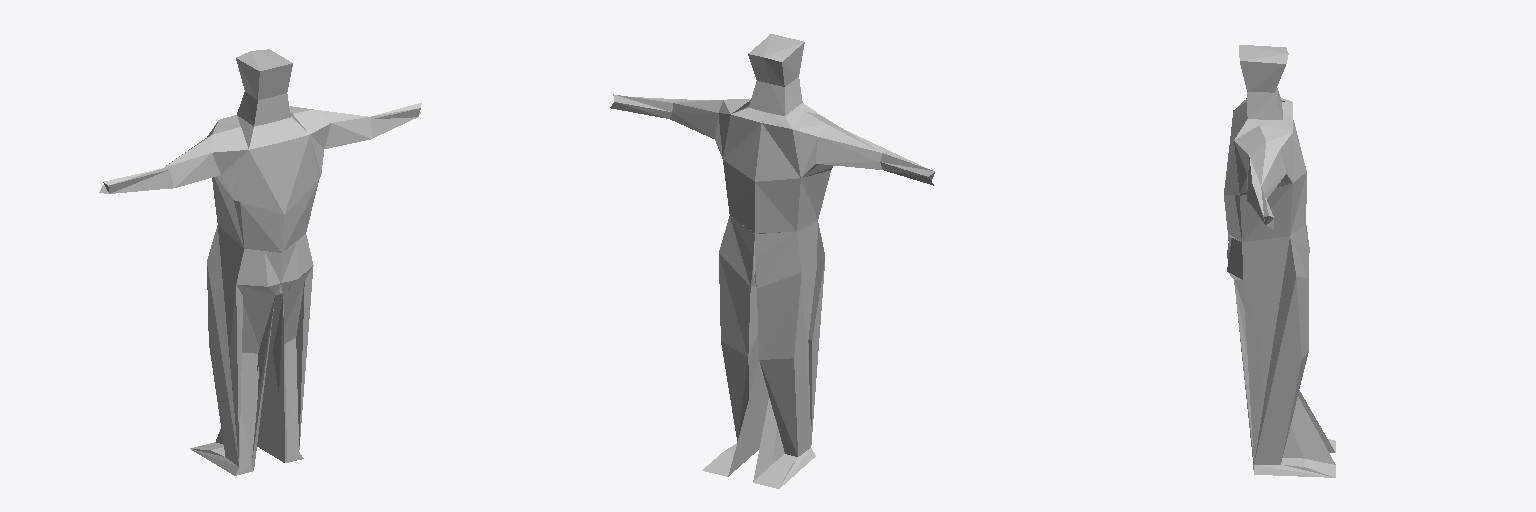
File: player.obj
3 renders of one model, left to right at view 1: azimuth 30°, elevation 25°; view 2: azimuth 150°, elevation 25°; view 3: azimuth 270°, elevation 25°, orthographic.
Parts seen in each view (by area): view 1: Cube.001; view 2: Cube.001; view 3: Cube.001.
Boxes of the visible parts, x1=… form: Cube.001: x1=99, y1=49, x2=421, y2=475; Cube.001: x1=610, y1=34, x2=934, y2=488; Cube.001: x1=1224, y1=45, x2=1335, y2=477.
Bounding box in the file's own units: 2.45 × 2.94 × 0.7368.